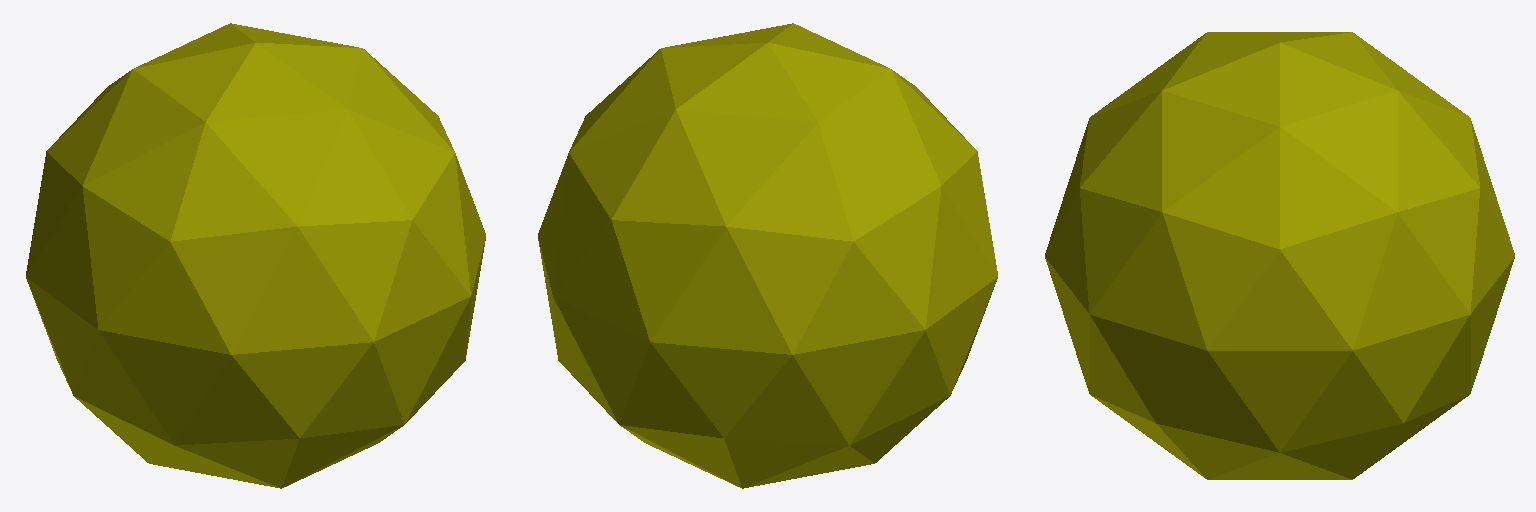
File: anti_matter_electron3.obj
The picture shows the model from 3 angles: view 1: azimuth 30°, elevation 25°; view 2: azimuth 150°, elevation 25°; view 3: azimuth 270°, elevation 25°; orthographic projection.
Parts seen in each view (by area): view 1: Icosphere.001_Icosphere.002; view 2: Icosphere.001_Icosphere.002; view 3: Icosphere.001_Icosphere.002.
Boxes of the visible parts, <box> form: Icosphere.001_Icosphere.002: <box>26,23,485,488</box>; Icosphere.001_Icosphere.002: <box>538,23,997,488</box>; Icosphere.001_Icosphere.002: <box>1045,32,1514,479</box>.
Size of the model in its own units: 0.1753 by 0.1843 by 0.1843.